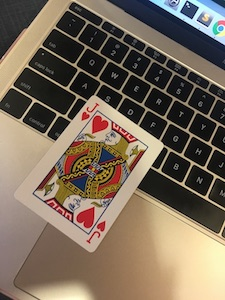JackOfHearts: (12, 93, 166, 254)
